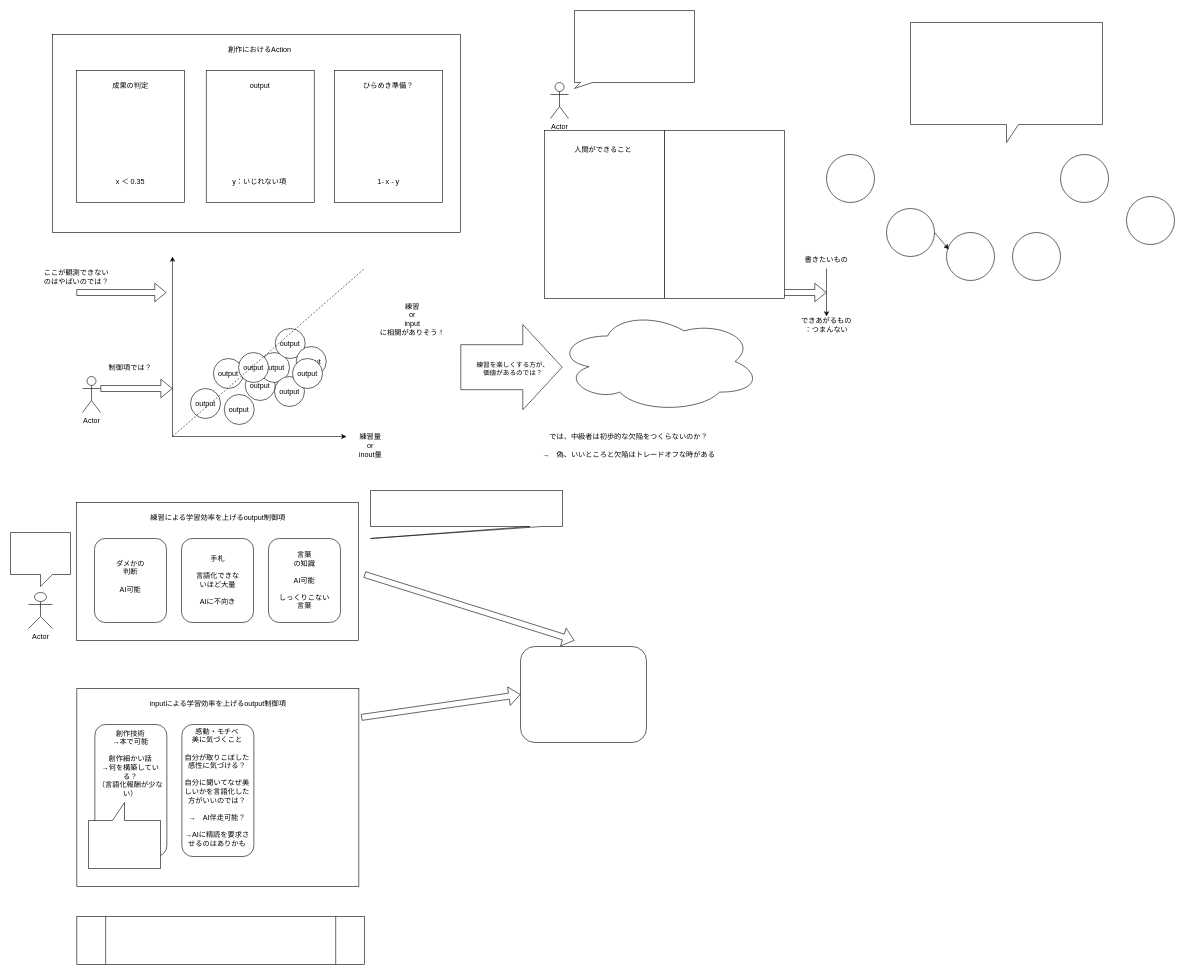
The diagram is 1185 pixels wide and 975 high, and some of its shapes have lost their labels. The shapes that lost their labels are listed below. From the top down, each one's centre as x and y in pixels, then its label:
At (634,49): "こっちの着目したほうがいいぜ 感情：いつもあるわけじゃない".
At (1006,82): "実はイケてる時は勝手に頭の中でつながっている ちろきしん：なんかうまくいくんすよ -> 無意識がプロットを考えているのかな？".
At (724,214): "AIができること".
At (658,361): "初心者が気づけないこと：ちょっと 中級者が気づけないこと：多い".
At (466,514): "output時に頭の中で考えているものを、 １行１行全部メモする。 それをAIに食わせて評価させる。のとかどう？".
At (40,559): "僕はoutput型かも".
At (583,694): "そんなとこにこだわるより、 練習した方が効果的！！".
At (124,835): "知ってる知見 しか得られない！".
At (220,940): "別議題：AI自体に中毒性があるのは？！".
